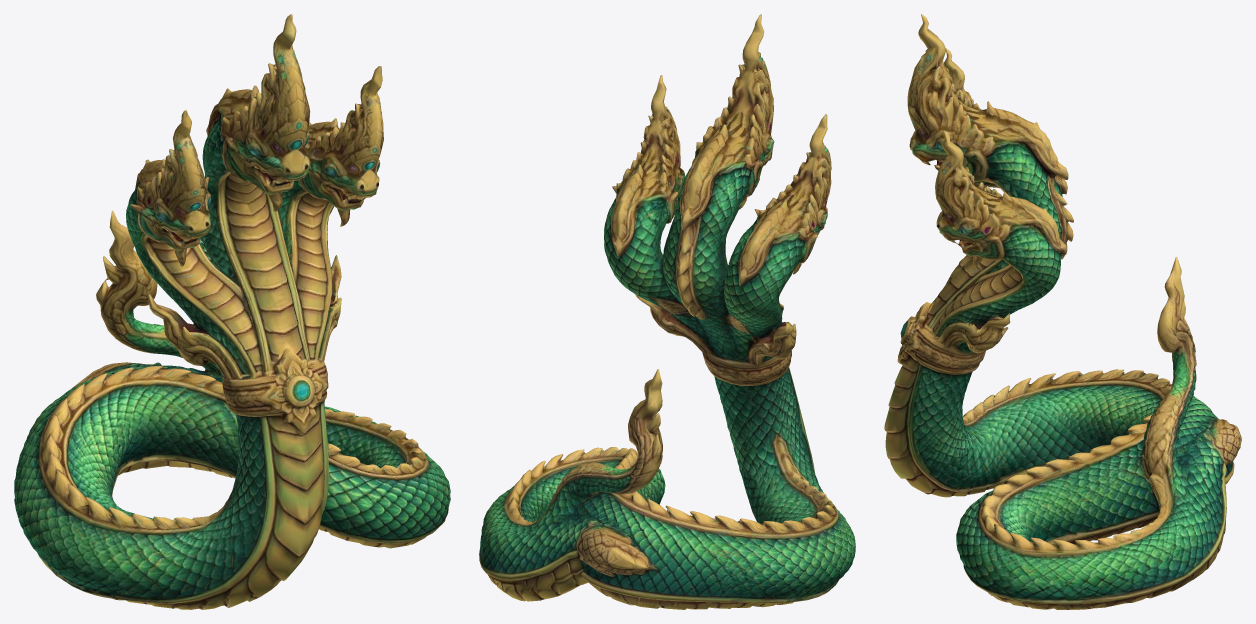
File: rua.glb
3 renders of one model, left to right at view 1: azimuth 30°, elevation 25°; view 2: azimuth 150°, elevation 25°; view 3: azimuth 270°, elevation 25°, orthographic. The views are drawn at different scales.
Parts seen in each view (by area): view 1: Mesh_0; view 2: Mesh_0; view 3: Mesh_0.
Part boxes in pixels (x1,y1,x2,y2): Mesh_0: (14,14,450,609); Mesh_0: (479,14,855,609); Mesh_0: (884,14,1241,609).
Size of the model in its own units: 1.32 by 1.91 by 1.22.
Materials: 1 (1 with a texture image).
